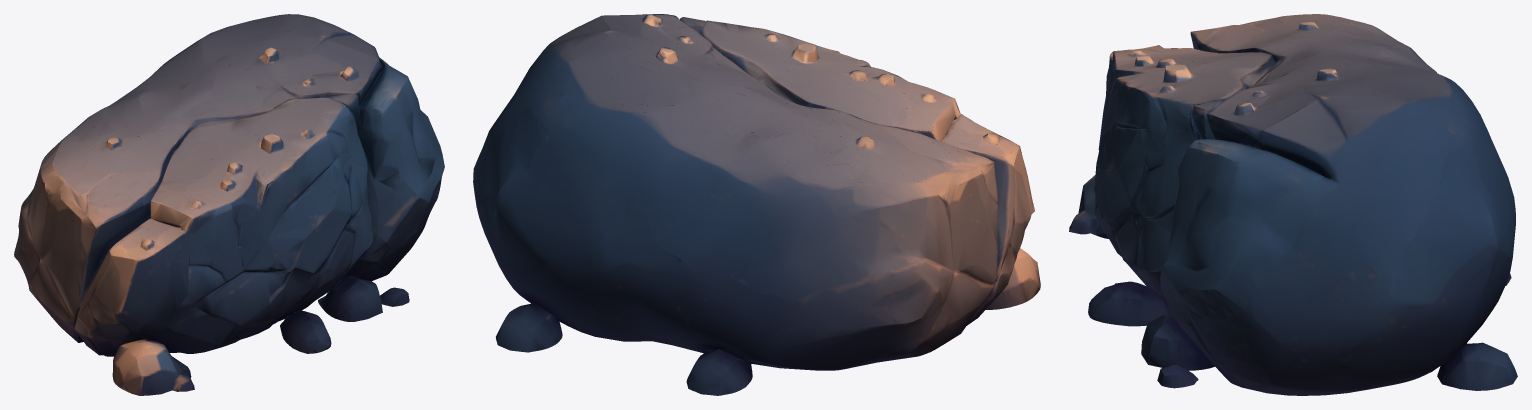
Rendered from horizontal_boulder.glb.
3 views of the same model, side by side, from view 1: azimuth 30°, elevation 25°; view 2: azimuth 150°, elevation 25°; view 3: azimuth 270°, elevation 25° (orthographic). The views are drawn at different scales.
Visible parts, largest first — view 1: node_0; view 2: node_0; view 3: node_0.
Boxes of the visible parts, x1,y1,x2,y2 form: node_0: [14, 14, 444, 395]; node_0: [473, 14, 1040, 395]; node_0: [1069, 14, 1517, 395].
Size of the model in its own units: 0.9158 by 0.5076 by 0.7467.
Materials: 1 (1 with a texture image).
